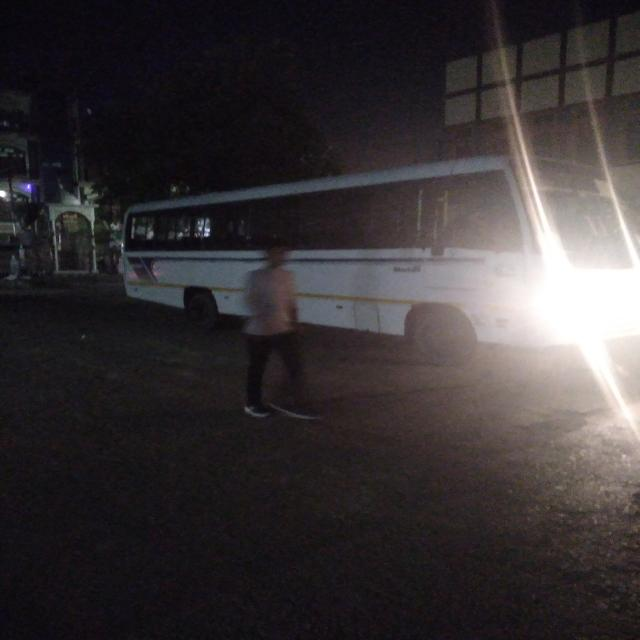Bus: (122, 151, 638, 350), (122, 156, 550, 344)
